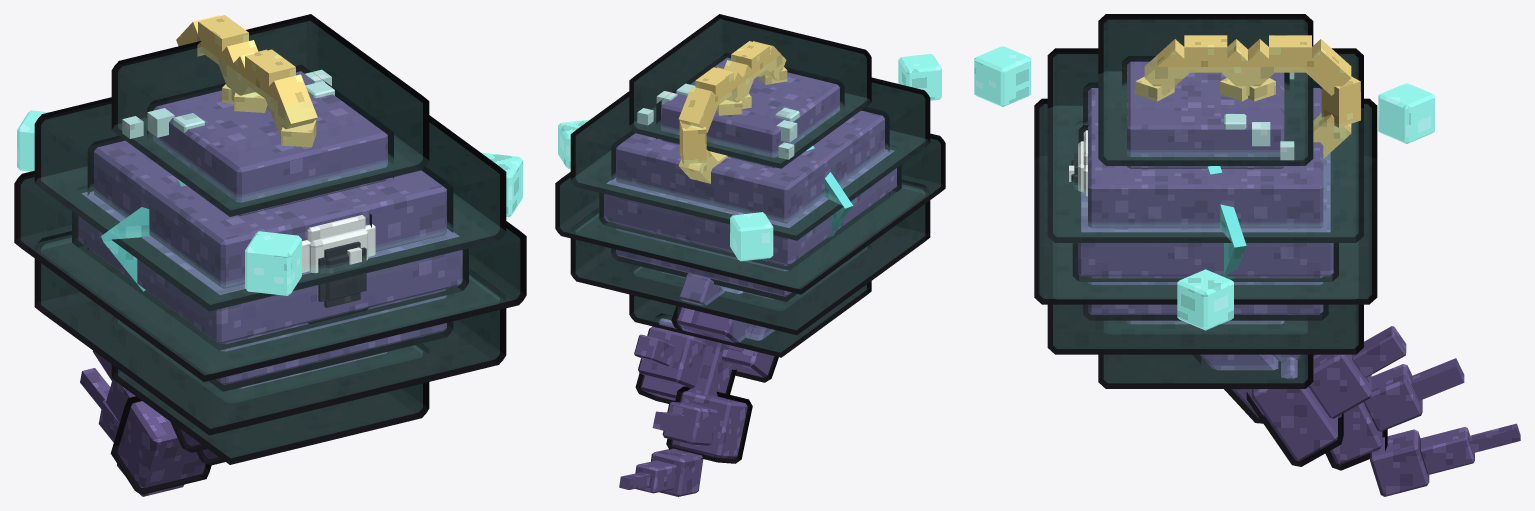
The model's file is deepsea_wraith_05.glb.
The picture shows the model from 3 angles, left to right: view 1: azimuth 30°, elevation 25°; view 2: azimuth 150°, elevation 25°; view 3: azimuth 270°, elevation 25°; orthographic projection. The views are drawn at different scales.
Parts seen in each view (by area): view 1: model; view 2: model; view 3: model.
Boxes of the visible parts, left/top/right/bottom form: model: left=14, top=14, right=526, bottom=496; model: left=555, top=14, right=945, bottom=496; model: left=974, top=14, right=1520, bottom=496.
Bounding box in the file's own units: 1.02 × 1.18 × 1.29.
9 materials, 8 textured.
